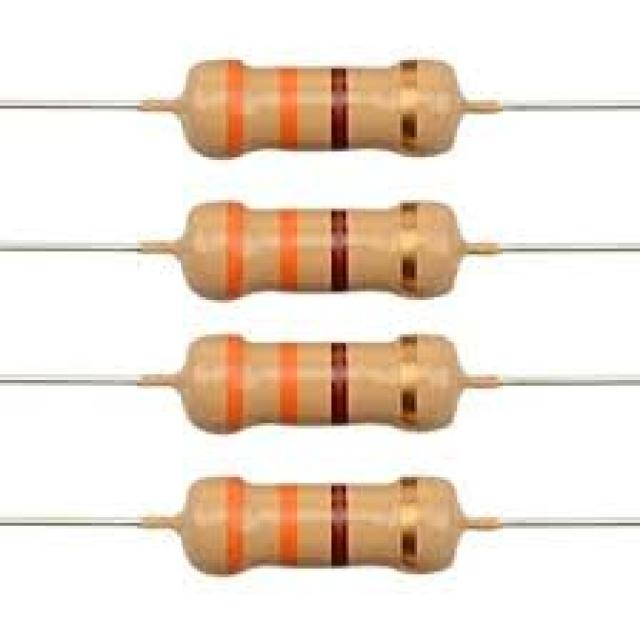Capacitor Electrolitico: (83, 177, 526, 323), (83, 323, 523, 457), (114, 457, 523, 597), (140, 37, 526, 177)
